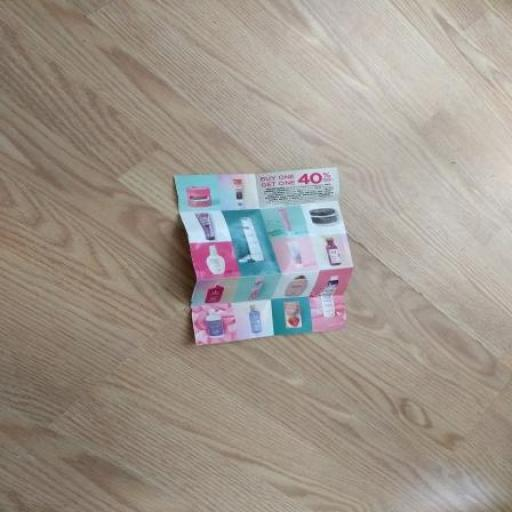paper: (111, 137, 419, 405)
